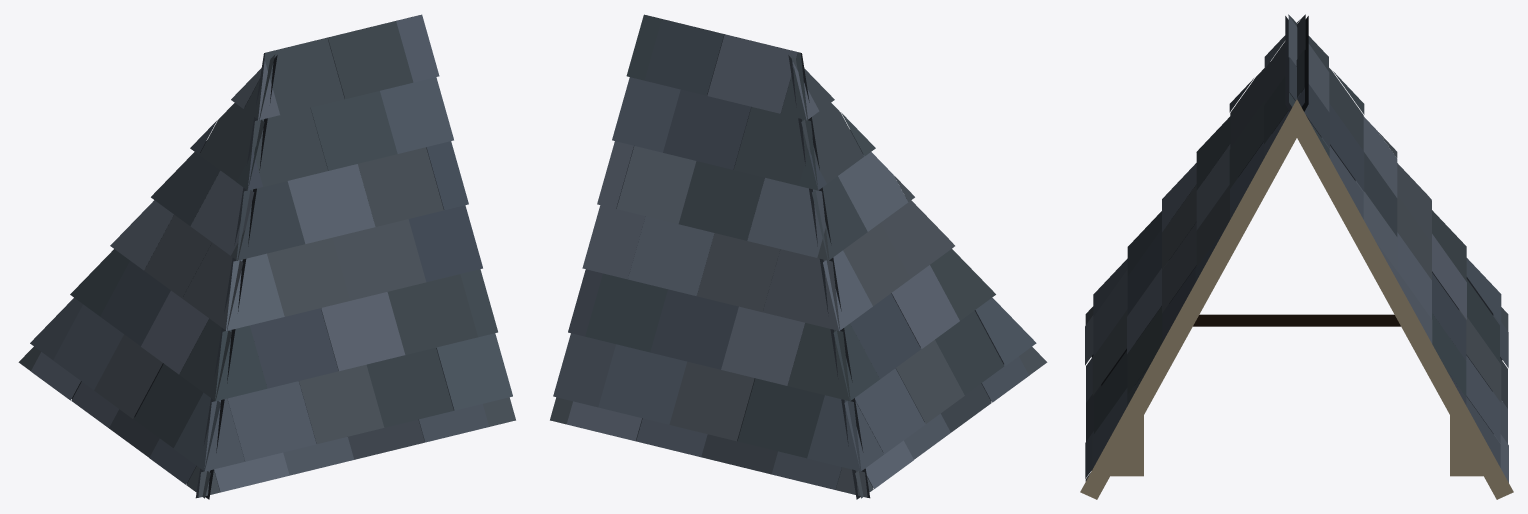
Rendered from roof-high-gable-end-slate.glb.
3 renders of one model, left to right at view 1: azimuth 30°, elevation 25°; view 2: azimuth 150°, elevation 25°; view 3: azimuth 270°, elevation 25°, orthographic. The views are drawn at different scales.
Parts seen in each view (by area): view 1: roof-high-gable-end-slate; view 2: roof-high-gable-end-slate; view 3: roof-high-gable-end-slate.
Boxes of the visible parts, x1,y1,x2,y2 form: roof-high-gable-end-slate: [18, 14, 515, 499]; roof-high-gable-end-slate: [550, 14, 1047, 499]; roof-high-gable-end-slate: [1080, 14, 1513, 499].
Size of the model in its own units: 1.12 by 1.16 by 1.13.
